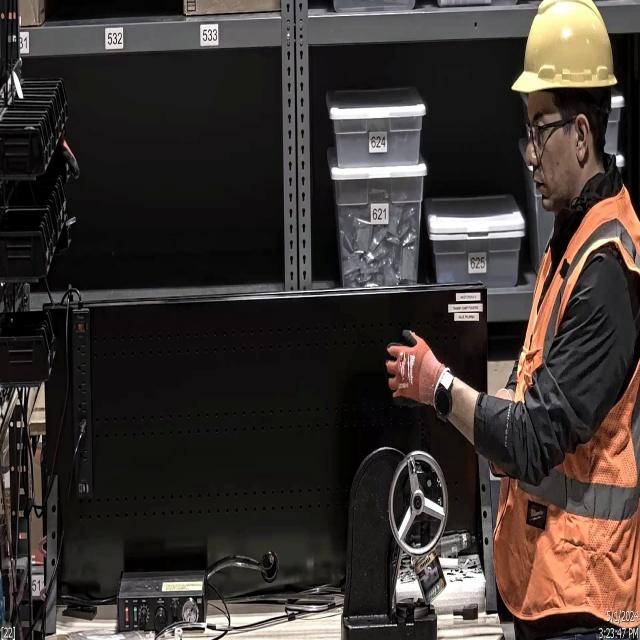gloves: (386, 329, 446, 411)
